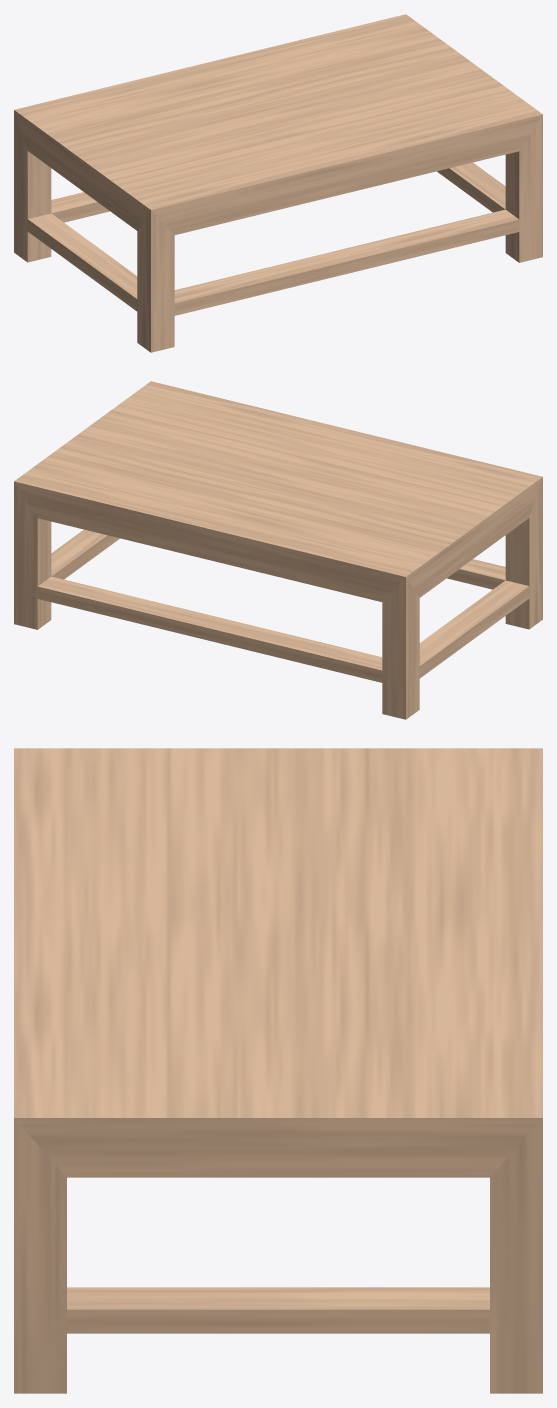
The model's file is tableCoffee.glb.
3 renders of one model, top to bottom at view 1: azimuth 30°, elevation 25°; view 2: azimuth 150°, elevation 25°; view 3: azimuth 270°, elevation 25°, orthographic. The views are drawn at different scales.
Parts seen in each view (by area): view 1: tableCoffee; view 2: tableCoffee; view 3: tableCoffee.
Part boxes in pixels (box(x1,y1,x2,y2)): tableCoffee: box(14, 14, 542, 352); tableCoffee: box(14, 381, 542, 719); tableCoffee: box(14, 748, 542, 1393).
Size of the model in its own units: 0.661 by 0.23 by 0.4.
Materials: 1 (1 with a texture image).
